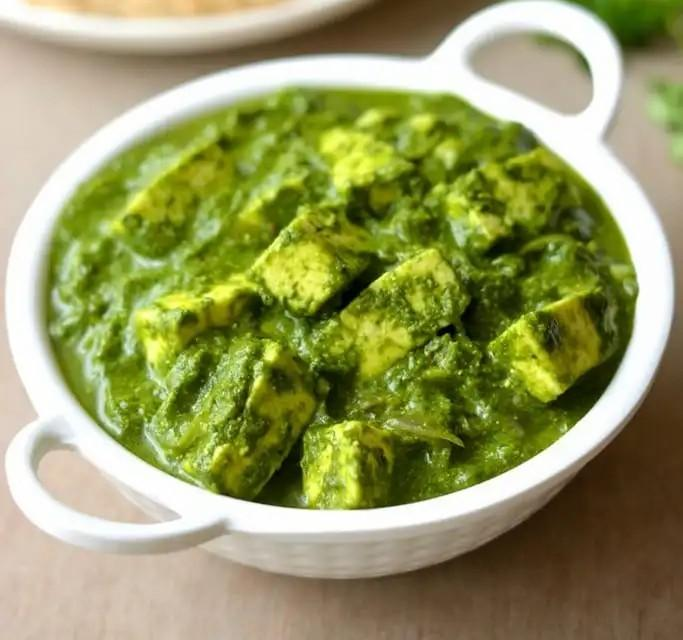PalakPaneer: (55, 95, 632, 507)
